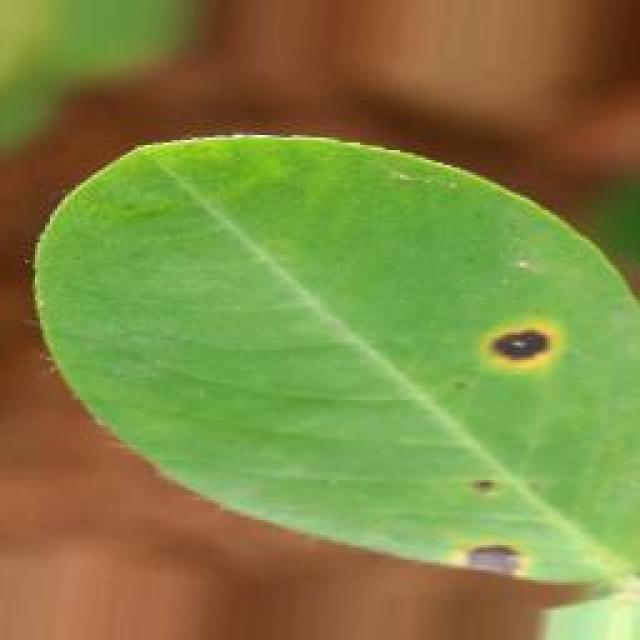Sigatoka: (436, 459, 532, 582), (479, 299, 578, 389)
